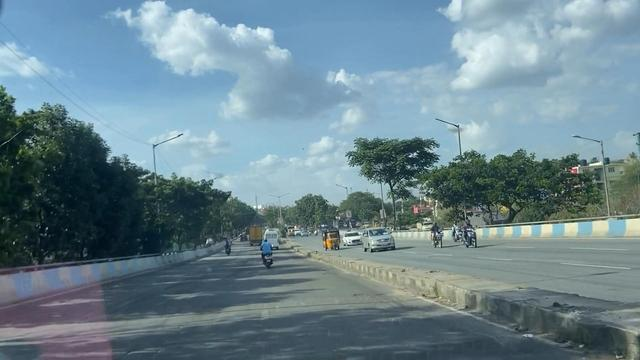RoadDamages: (135, 292, 304, 360), (297, 277, 391, 360)
